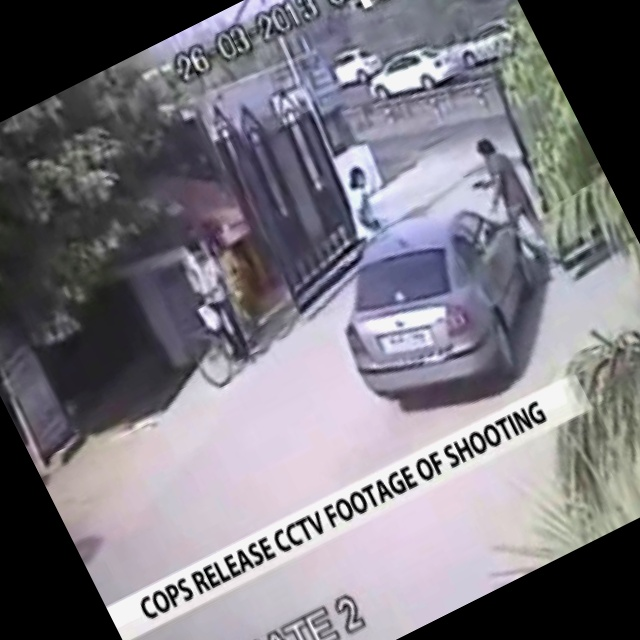gun: (463, 170, 493, 198)
